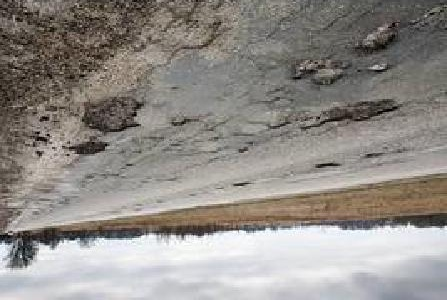pothole: (302, 98, 402, 133), (77, 96, 142, 134), (292, 57, 350, 87), (353, 19, 400, 54), (65, 140, 111, 158), (363, 62, 390, 73)
